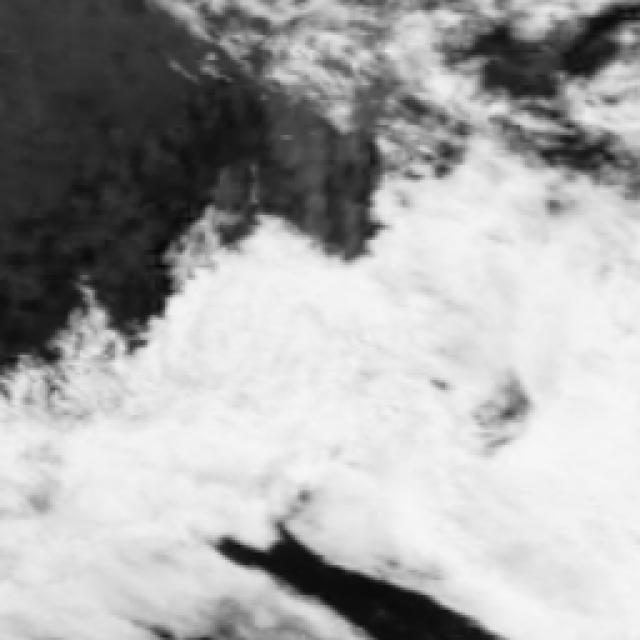CB: (200, 281, 395, 450), (356, 464, 602, 560), (560, 342, 638, 640), (80, 423, 216, 526)
